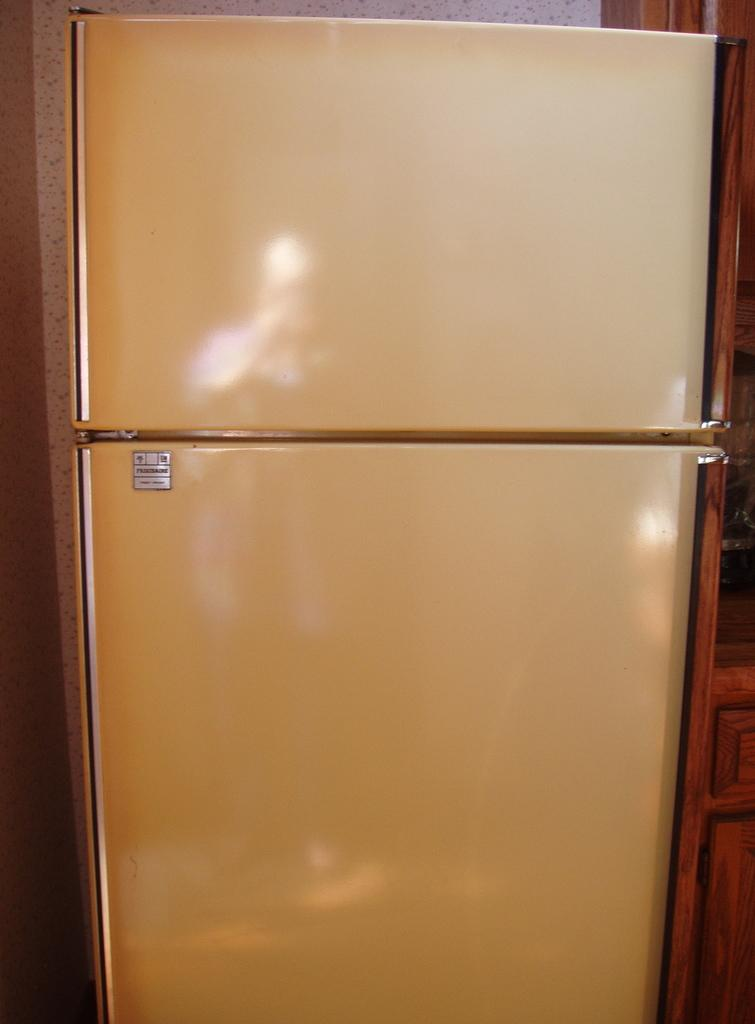handle: (678, 468, 722, 1024), (706, 50, 742, 424)
